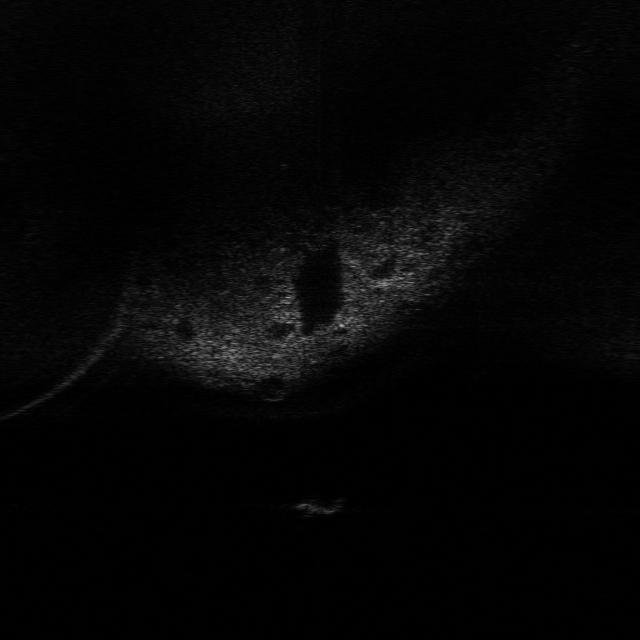cube: (288, 494, 349, 518)
